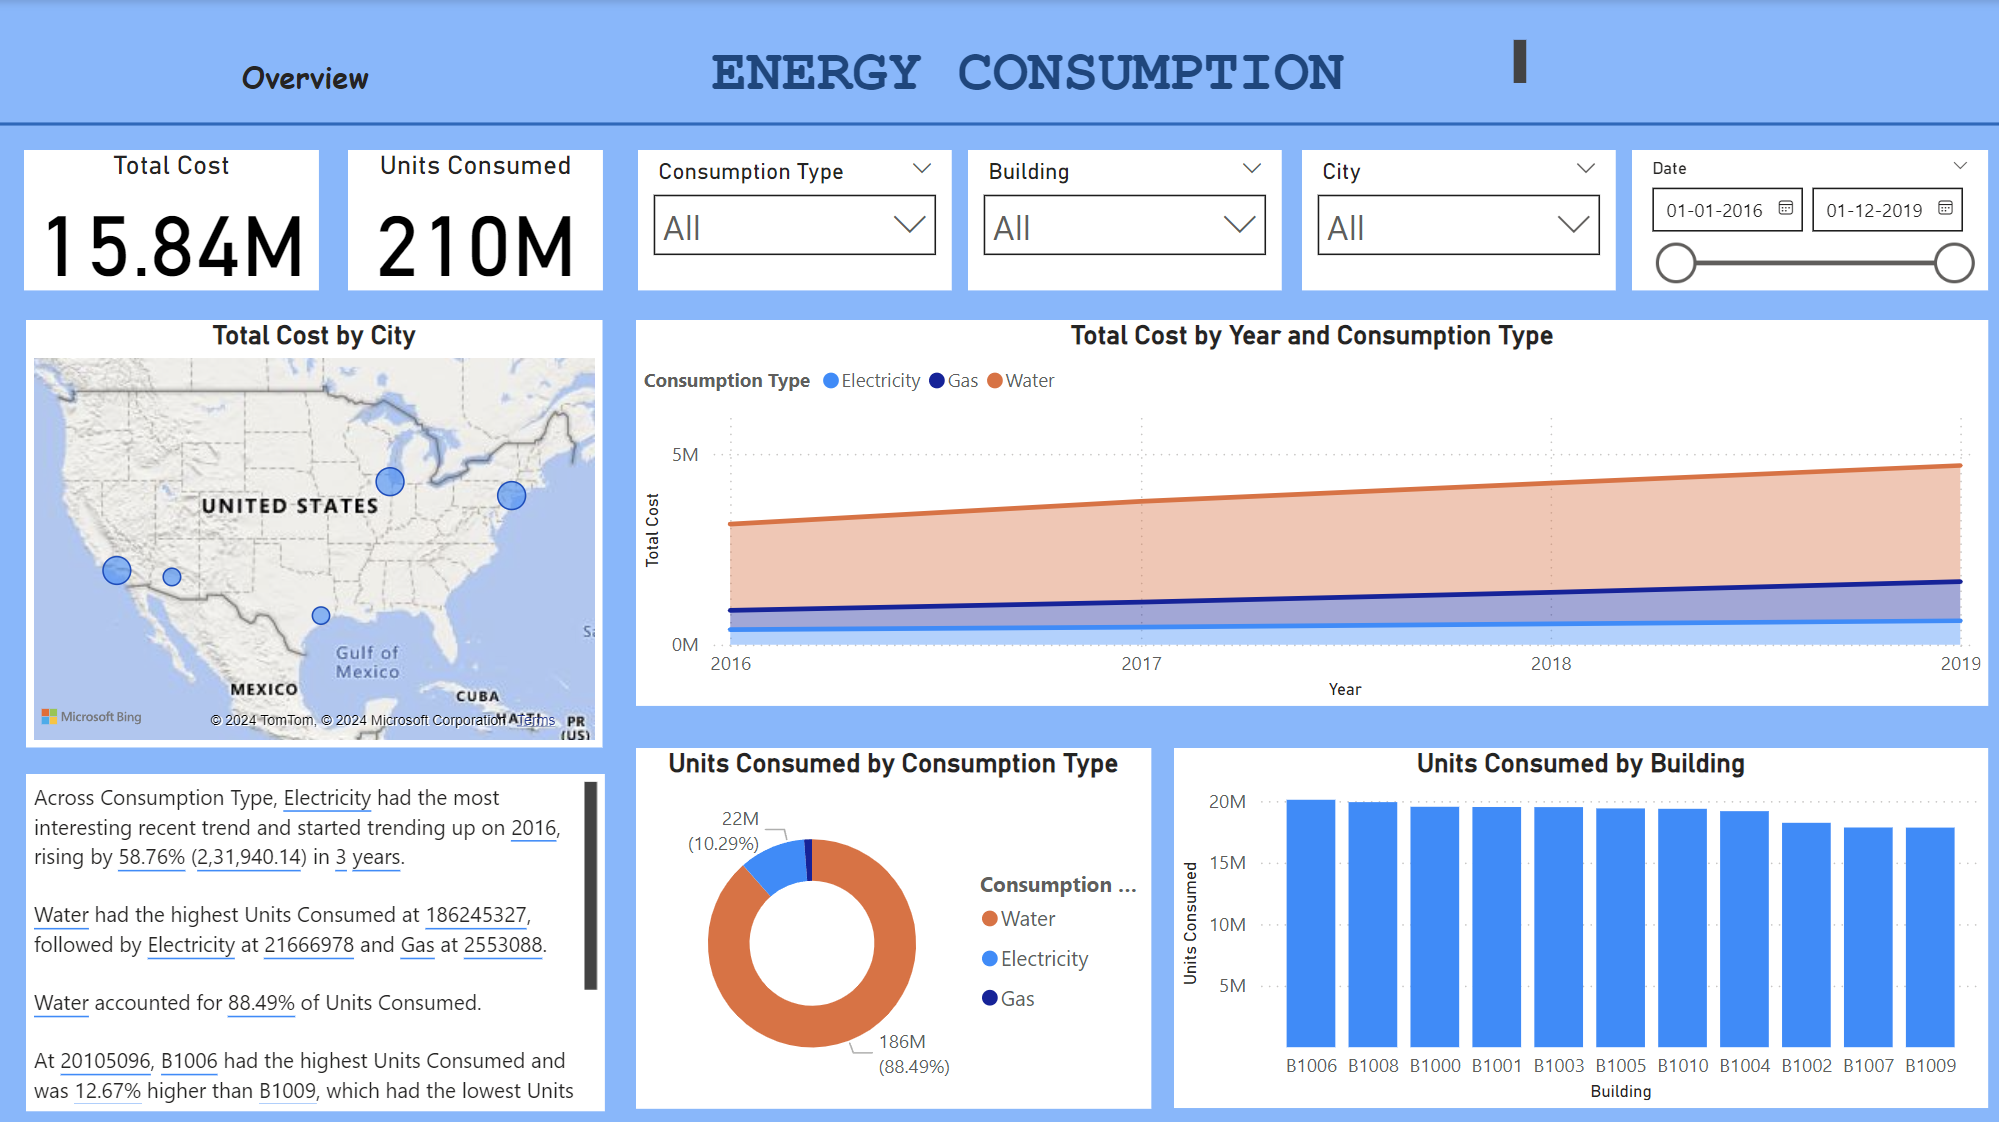

Layout of this report page (visuals, bound fields, positions):
{"tool":"powerbi","page":{"name":"Page 1","canvas":[1280,720],"ordinal":0},"visuals":[{"type":"shape","box":[0,9.7,1280,138.1],"z":0},{"type":"textbox","box":[342.9,20.4,699.9,58.6],"z":1000},{"type":"textbox","box":[151.7,30.6,100.7,38.2],"z":2000},{"type":"card","title":"Total Cost","fields":{"Values":["Energy Consumptions.Total Cost"]},"box":[17.9,95.5,188.1,89.6],"z":3000},{"type":"card","title":"Units Consumed","fields":{"Values":["Energy Consumptions.Units Consumed"]},"box":[223.9,95.5,162.7,89.6],"z":4000},{"type":"slicer","fields":{"Values":["Energy Consumptions.Consumption Type"]},"box":[409,95.5,200,89.6],"z":5000},{"type":"slicer","fields":{"Values":["Energy Consumptions.Building"]},"box":[619.4,95.5,200,89.6],"z":6000},{"type":"slicer","fields":{"Values":["Building Master.City"]},"box":[832.8,95.5,200,89.6],"z":7000},{"type":"slicer","fields":{"Values":["Energy Consumptions.Date"]},"box":[1043.3,95.5,226.9,89.6],"z":8000},{"type":"map","fields":{"Category":["Building Master.City"],"Size":["Energy Consumptions.Total Cost"]},"box":[18.8,203.8,367.5,272.5],"z":9000},{"type":"stackedAreaChart","fields":{"Category":["Energy Consumptions.Date.Variation.Date Hierarchy.Year","Energy Consumptions.Date.Variation.Date Hierarchy.Quarter","Energy Consumptions.Date.Variation.Date Hierarchy.Month","Energy Consumptions.Date.Variation.Date Hierarchy.Day"],"Y":["Energy Consumptions.Total Cost"],"Series":["Energy Consumptions.Consumption Type"]},"box":[408.1,204.1,862.2,245.9],"z":10000},{"type":"donutChart","fields":{"Y":["Energy Consumptions.Units Consumed"],"Category":["Energy Consumptions.Consumption Type"]},"box":[408.3,476.7,328.3,230],"z":11000},{"type":"columnChart","fields":{"Category":["Building Master.Building"],"Y":["Energy Consumptions.Units Consumed"]},"box":[751.4,477,518.9,229.7],"z":12000},{"type":"textbox","box":[18.8,493.8,368.8,215],"z":13000},{"type":"actionButton","title":"Home","box":[1132.2,21.1,100.7,46],"z":13001}]}

Visuals, with their boxes in screenshot pixels (x1, y1, x2, y2), scaled from the page's 1280x720 canvas onto the 1999x1122 screenshot:
shape: [left=0, top=15, right=1998, bottom=230]
textbox: [left=536, top=32, right=1629, bottom=123]
textbox: [left=237, top=48, right=394, bottom=107]
"Total Cost" card: [left=28, top=149, right=322, bottom=288]
"Units Consumed" card: [left=350, top=149, right=604, bottom=288]
slicer - Energy Consumptions.Consumption Type: [left=639, top=149, right=951, bottom=288]
slicer - Energy Consumptions.Building: [left=967, top=149, right=1280, bottom=288]
slicer - Building Master.City: [left=1301, top=149, right=1613, bottom=288]
slicer - Energy Consumptions.Date: [left=1629, top=149, right=1984, bottom=288]
map - Building Master.City x Energy Consumptions.Total Cost: [left=29, top=318, right=603, bottom=742]
stackedAreaChart - Energy Consumptions.Date.Variation.Date Hierarchy.Year x Energy Consumptions.Date.Variation.Date Hierarchy.Quarter: [left=637, top=318, right=1984, bottom=701]
donutChart - Energy Consumptions.Units Consumed x Energy Consumptions.Consumption Type: [left=638, top=743, right=1150, bottom=1101]
columnChart - Building Master.Building x Energy Consumptions.Units Consumed: [left=1173, top=743, right=1984, bottom=1101]
textbox: [left=29, top=770, right=605, bottom=1105]
"Home" actionButton: [left=1768, top=33, right=1925, bottom=105]
